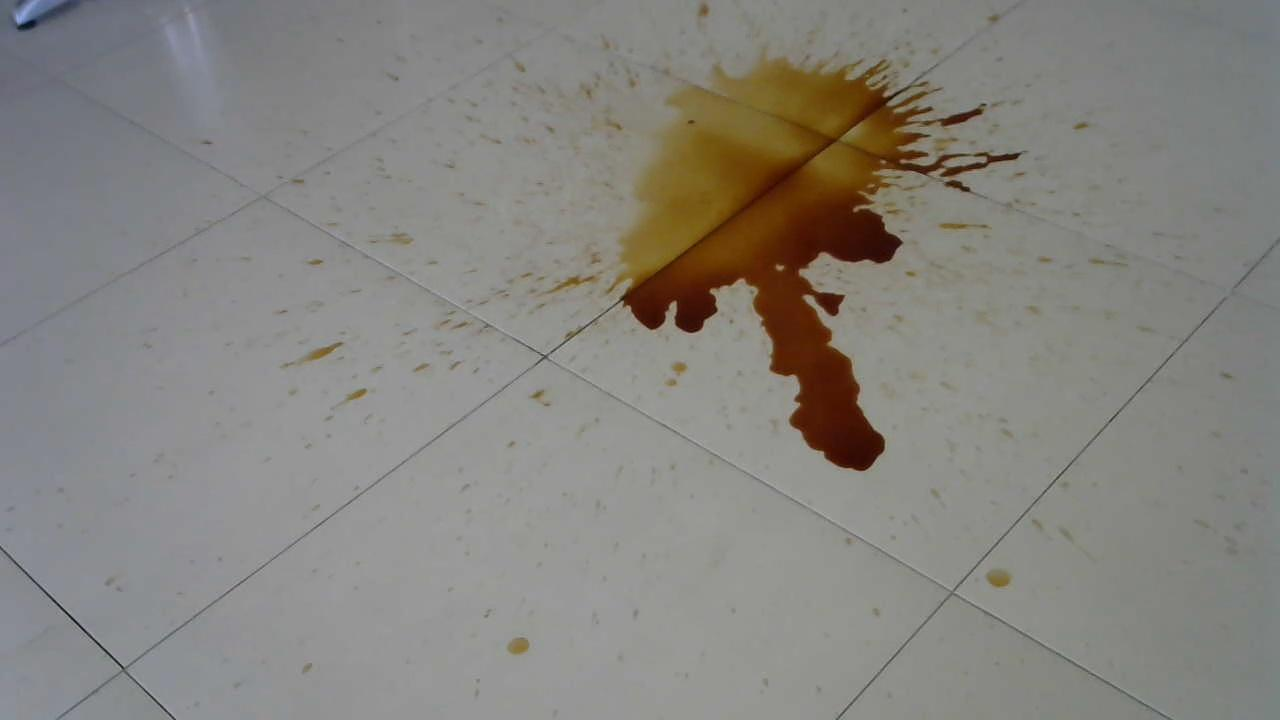dirty_floor: (284, 29, 1036, 493)
